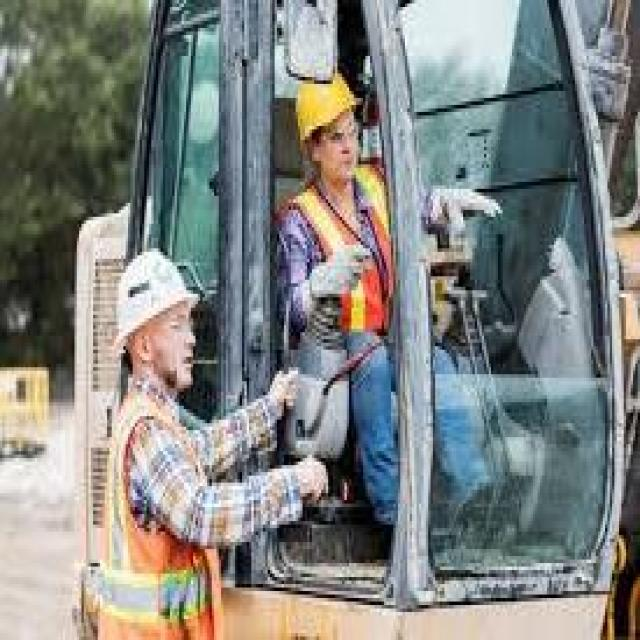Reflective-Jacket: (77, 381, 228, 640), (272, 172, 403, 354)
Safety-Helmet: (105, 238, 205, 353), (286, 63, 366, 154)
